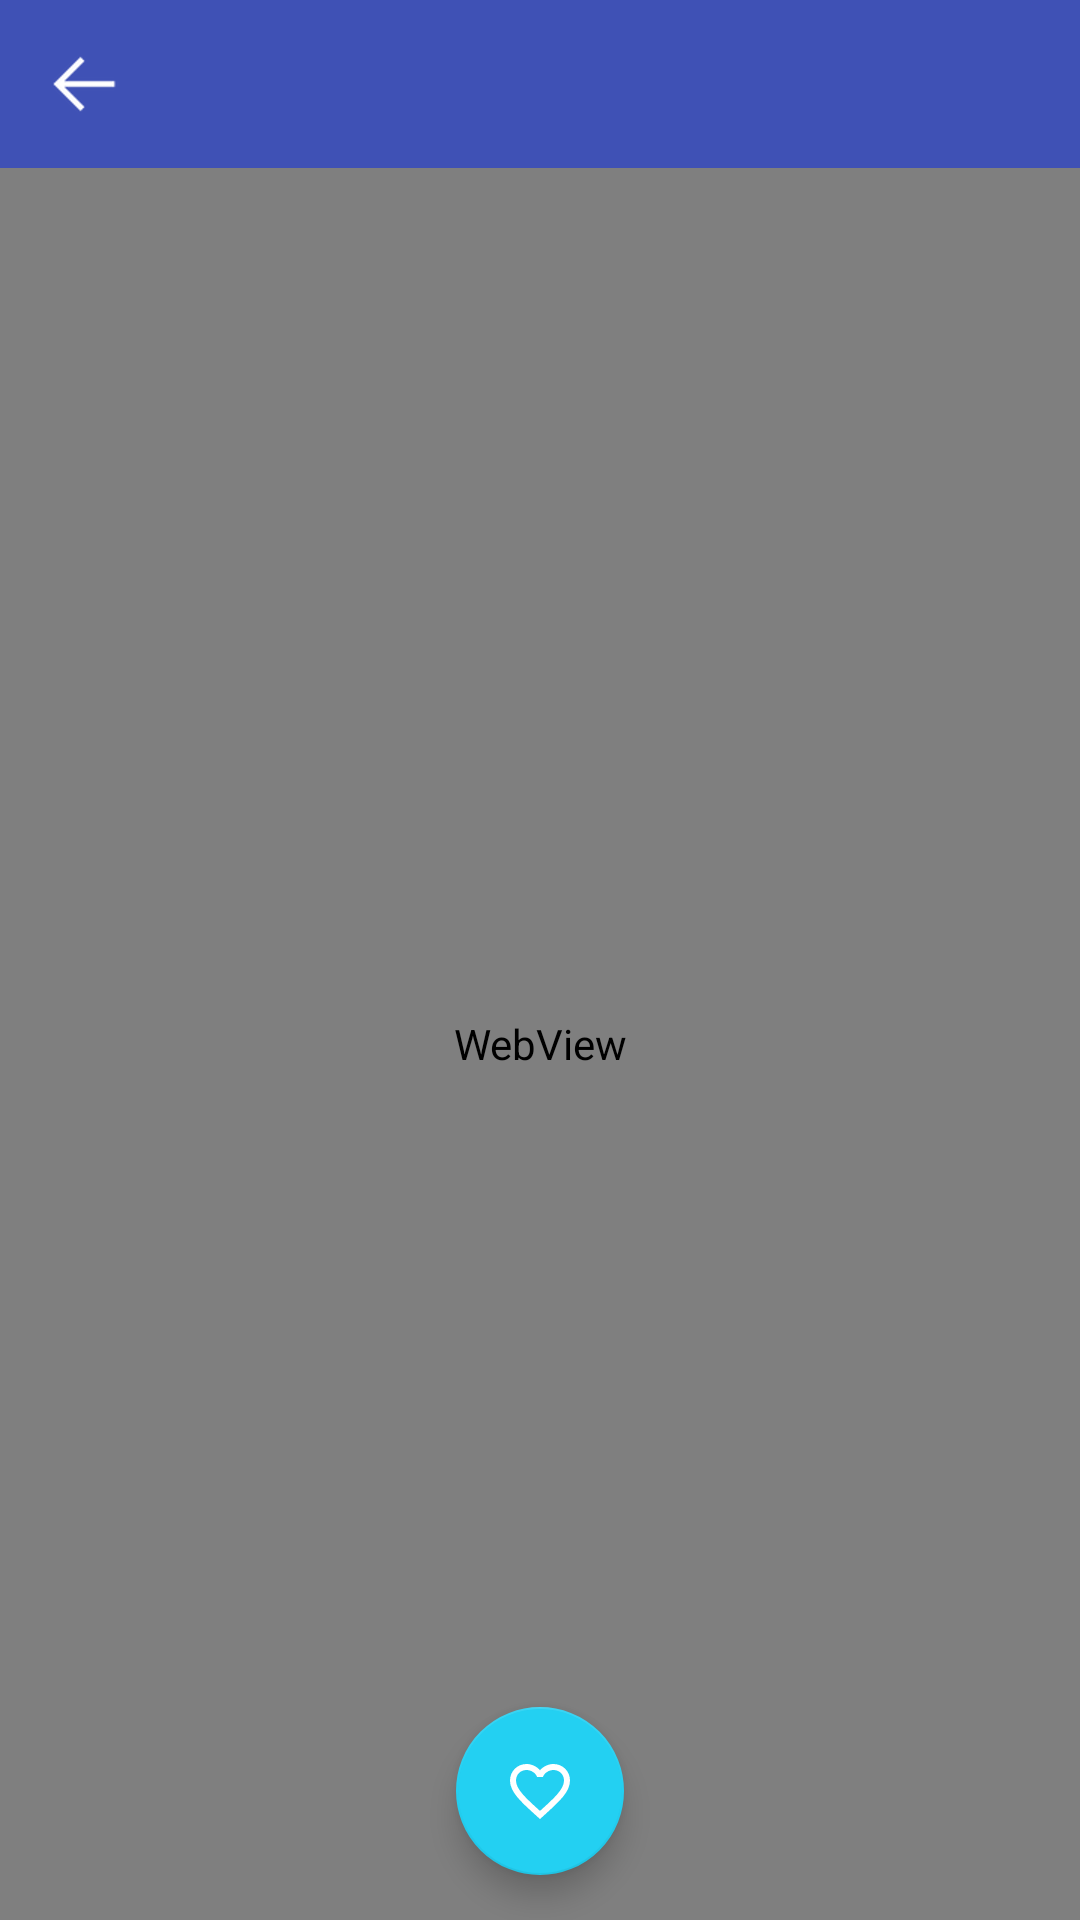

Screen size 1080 × 1920. Icon name, then its center in pixels as point (x, y):
collect: point (540, 1791)
